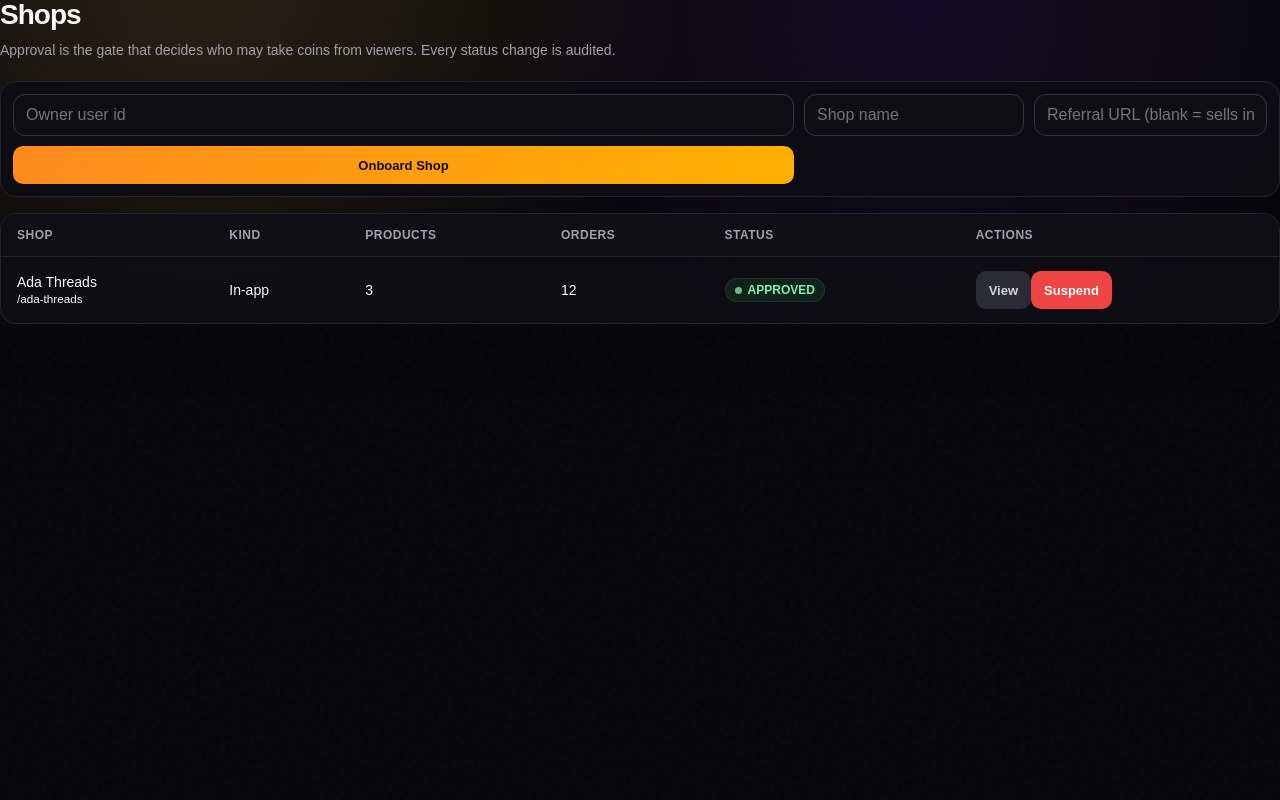
Test case: ShopsPage › detail: names the owner and lists products with stock and kind
Expected: the text "Ada Threads" is shown, [17, 274, 97, 290]
Click the button "View".
click(1003, 290)  # box [976, 271, 1031, 309]
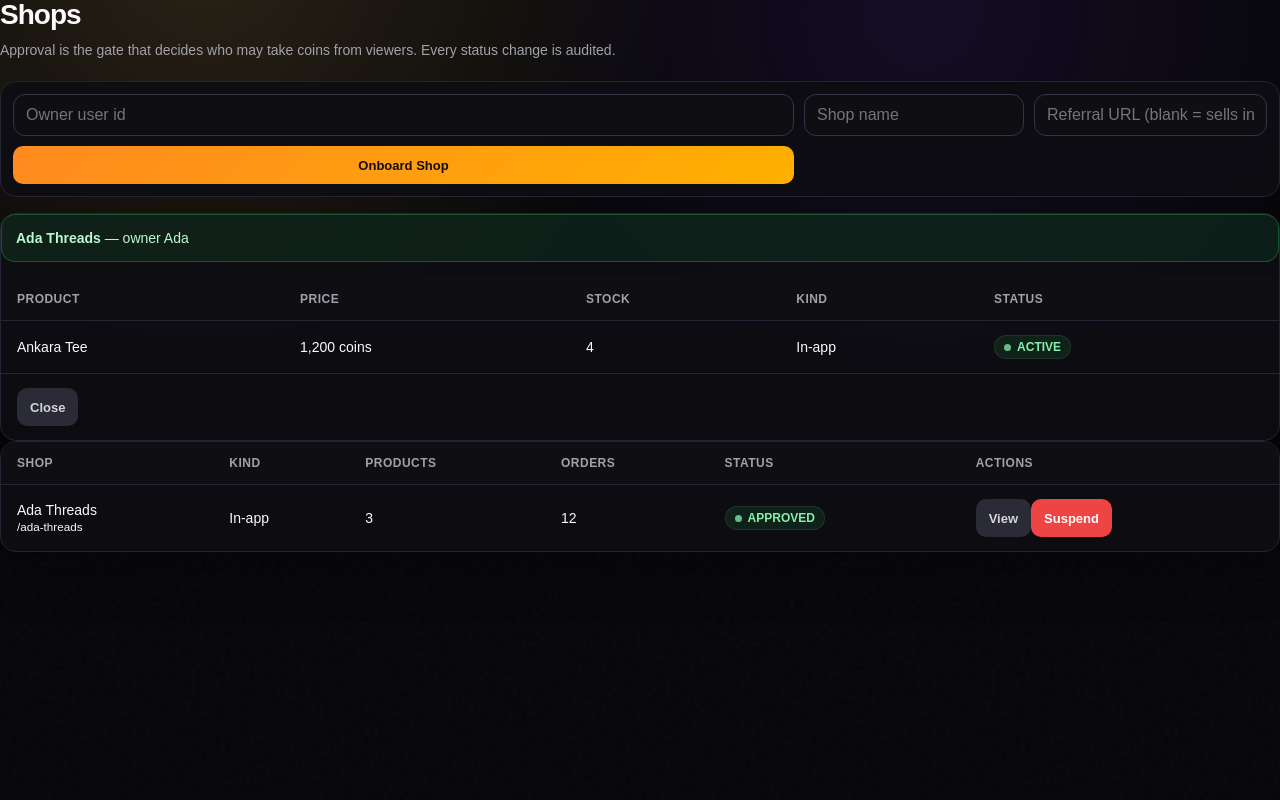
Expected: the text "Ankara Tee" is shown, [1, 321, 284, 374]
Expected: the element with class "banner-ok" shows "owner Ada", [1, 214, 1279, 262]
Expected: the text "1,200 coins" is shown, [284, 321, 570, 374]
Click the button "Close".
click(48, 408)  # box [17, 388, 78, 426]
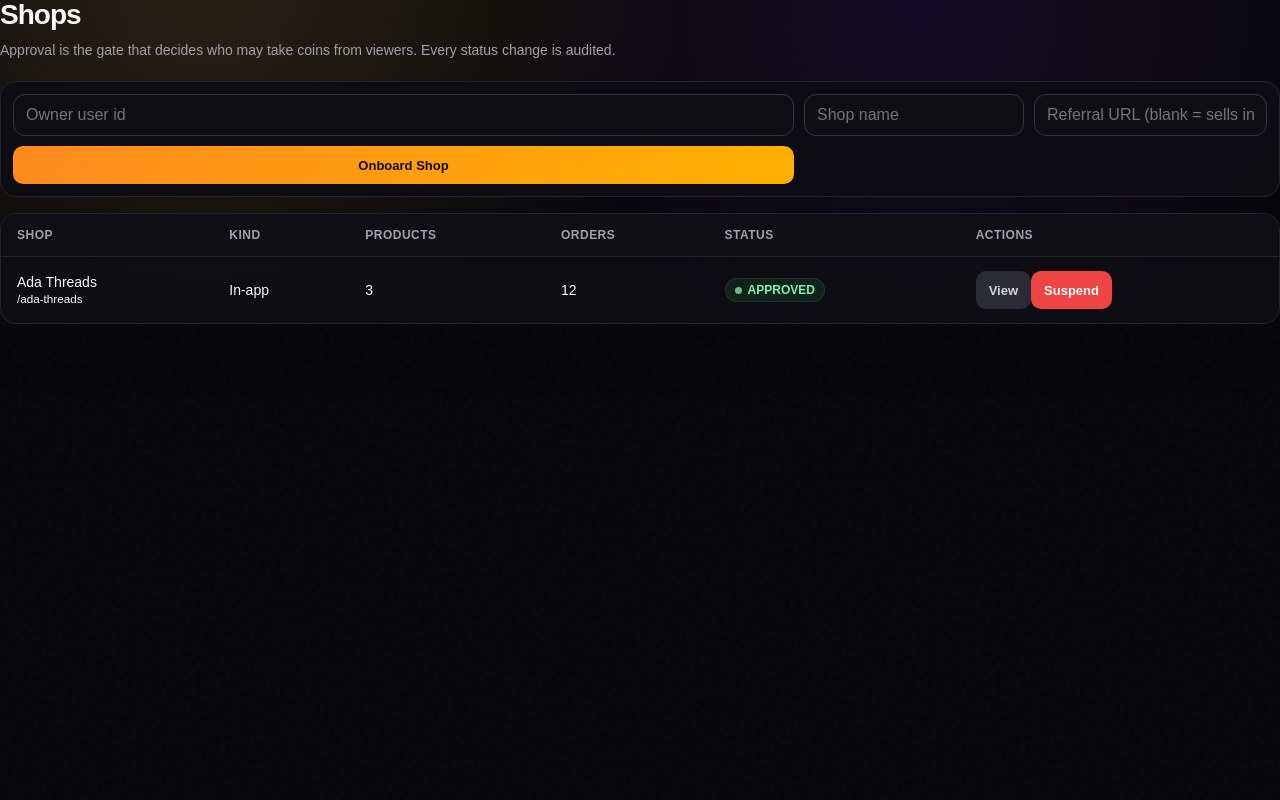
Expected: the text "Ankara Tee" is gone
